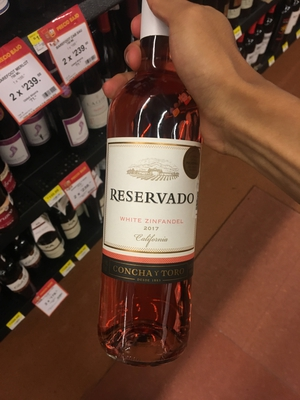reservado white zinfandel: (106, 1, 204, 375)
